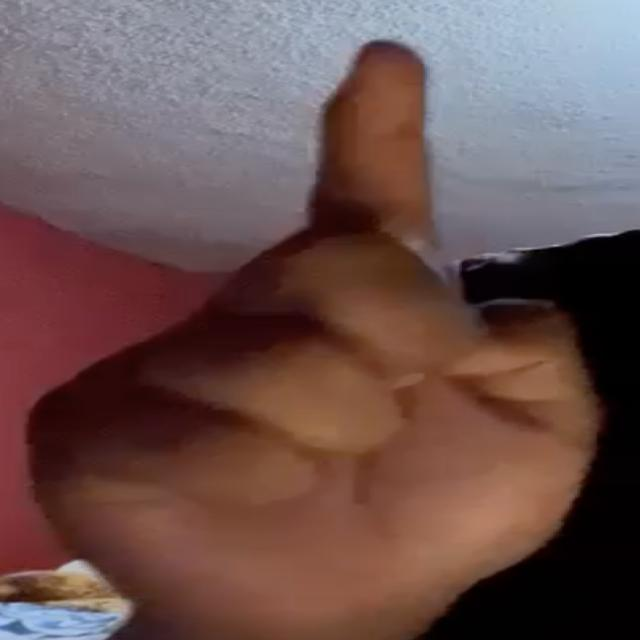Z: (17, 28, 610, 635)
